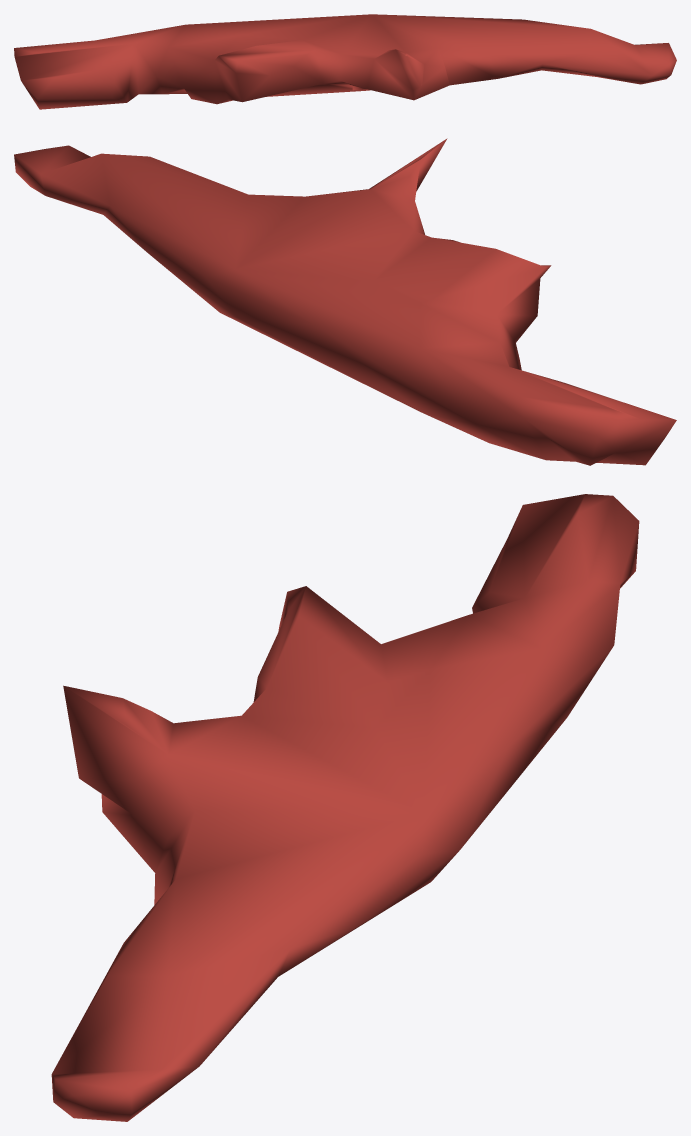
The model's file is musculos-transverse-head-of-adductor-hallucis-r.glb.
The picture shows the model from 3 angles, top to bottom: view 1: azimuth 30°, elevation 25°; view 2: azimuth 150°, elevation 25°; view 3: azimuth 270°, elevation 25°; orthographic projection. The views are drawn at different scales.
Visible parts, largest first — view 1: Transverse head of adductor hallucis.r; view 2: Transverse head of adductor hallucis.r; view 3: Transverse head of adductor hallucis.r.
Part boxes in pixels (x1,y1,x2,y2): Transverse head of adductor hallucis.r: (14, 14, 676, 109); Transverse head of adductor hallucis.r: (14, 138, 676, 465); Transverse head of adductor hallucis.r: (51, 494, 639, 1121).
Bounding box in the file's own units: 0.0481 × 0.0074 × 0.0223.
